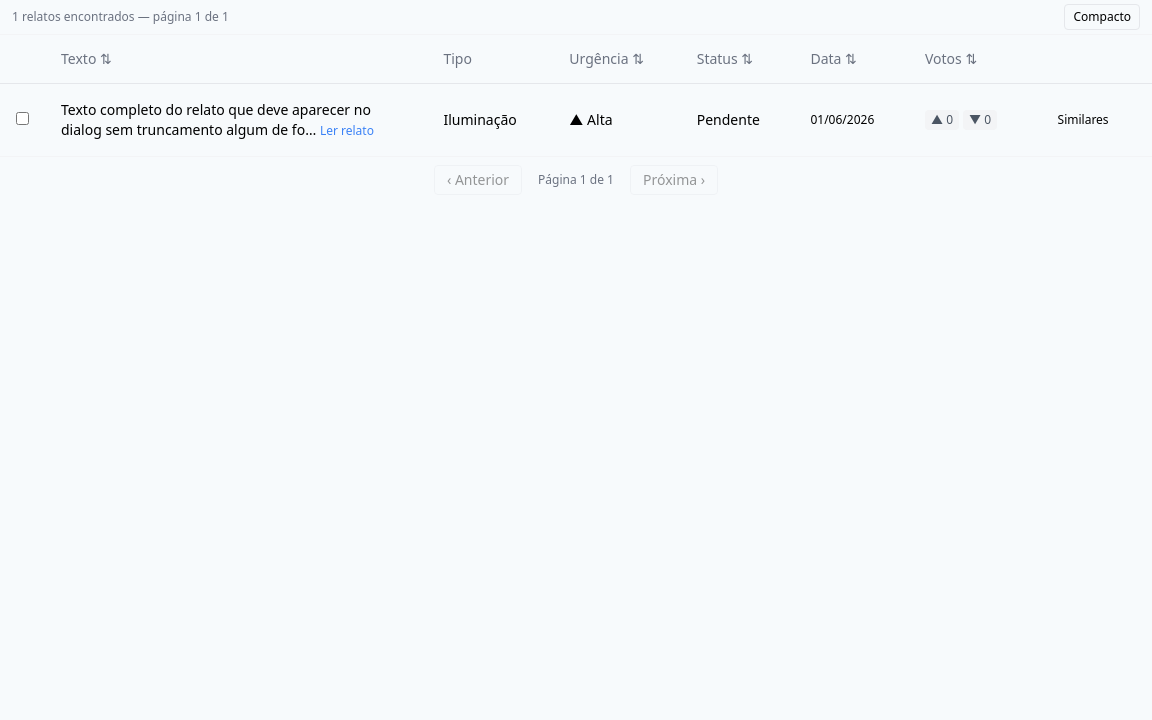
Test: TableView — full-text dialog › "Ler relato" button opens dialog with full text
Click the button "Ler relato" at (347,130), box top-left (320, 122), bottom-right (374, 138)
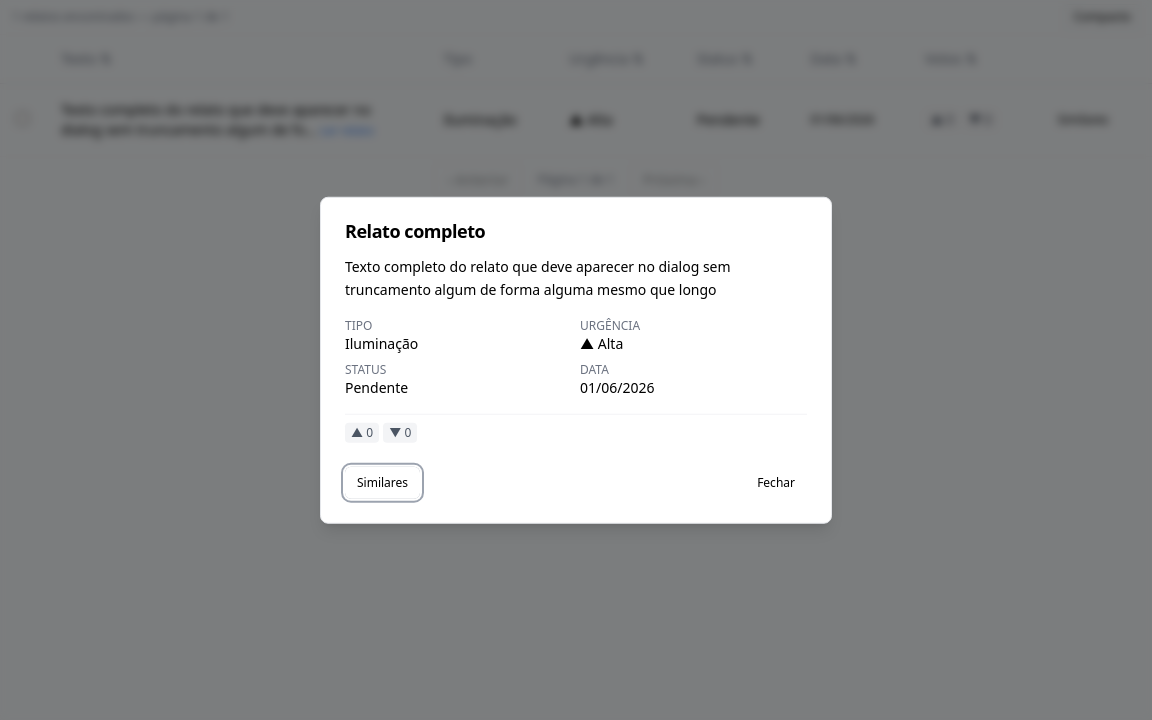
Now the text "Texto completo do relato que deve aparecer no dialog sem truncamento algum de forma alguma mesmo que longo" is shown, box top-left (345, 257), bottom-right (731, 299)
